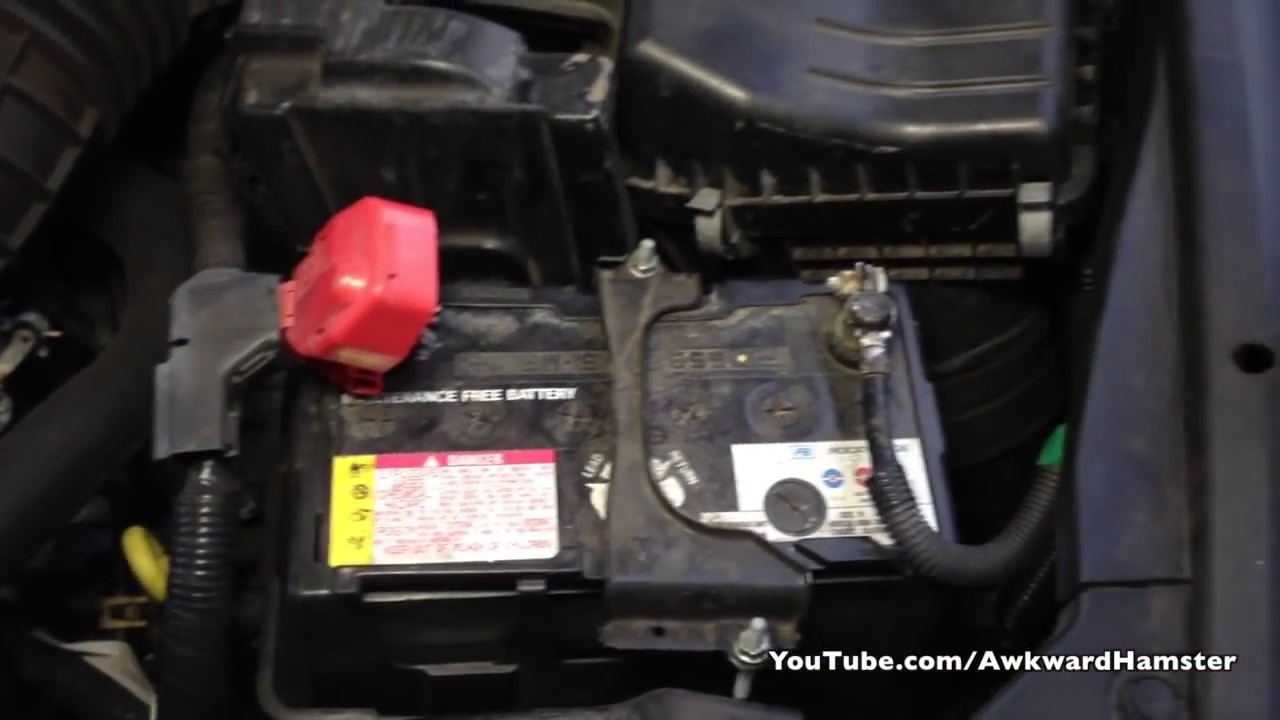battery: (280, 273, 965, 585)
neg_connected: (808, 262, 933, 406)
pos_connected: (234, 215, 455, 385)
